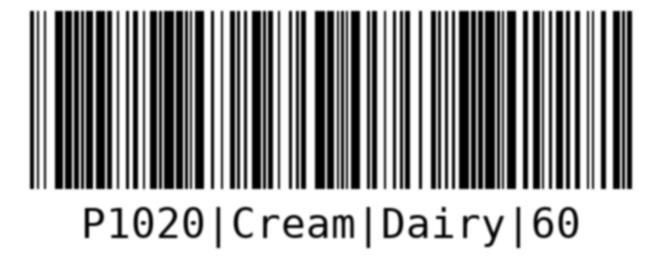milk: (26, 5, 639, 258)
